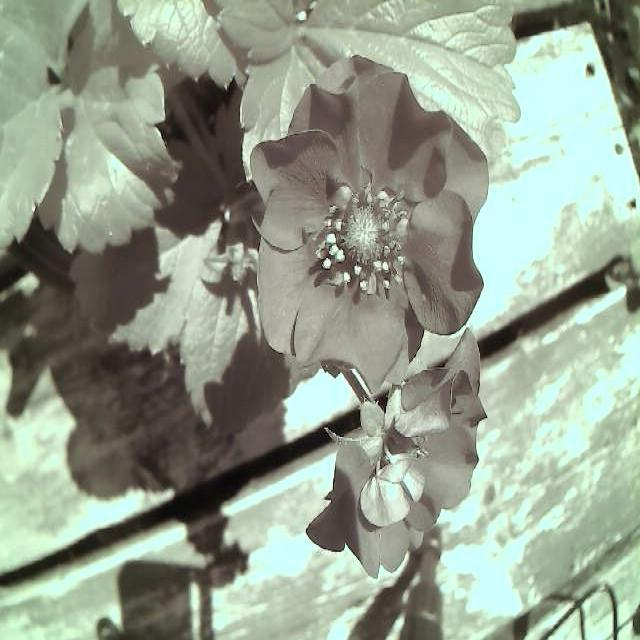flower: (245, 49, 504, 400), (298, 327, 497, 588)
